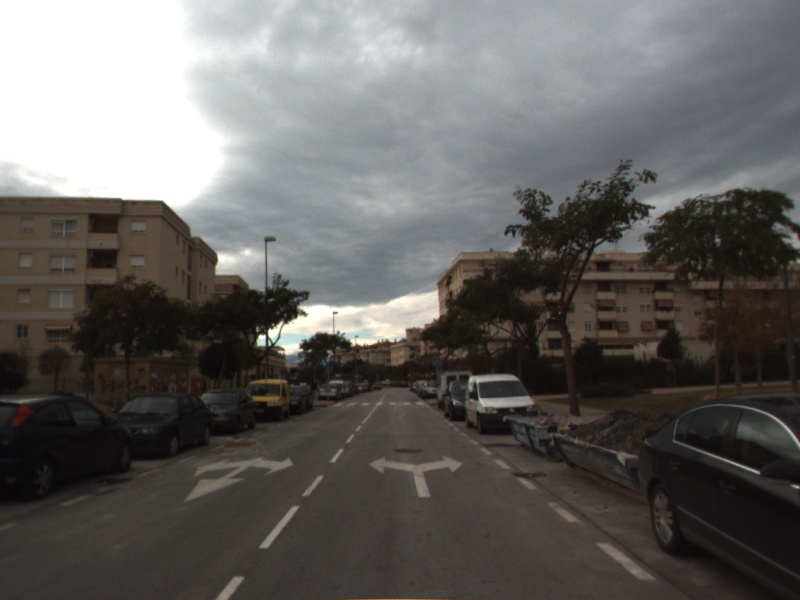LEFT_RIGHT: (366, 453, 465, 500)
